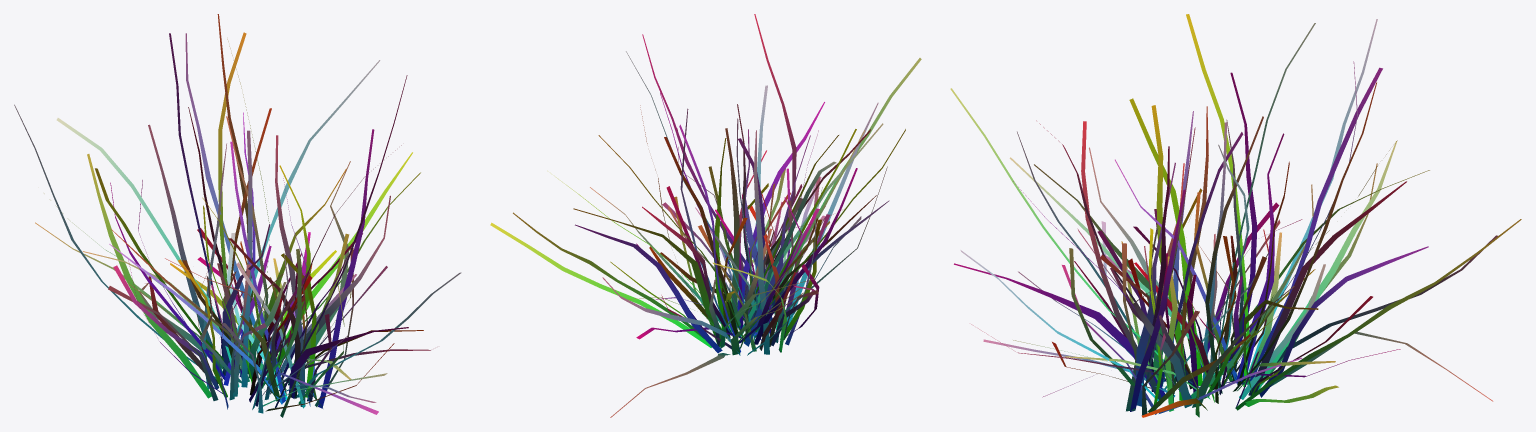
File: Wild_Grass_vlkhcbxia_High_vlkhcbxia_VarD_LOD1.fbx
3 renders of one model, left to right at view 1: azimuth 30°, elevation 25°; view 2: azimuth 150°, elevation 25°; view 3: azimuth 270°, elevation 25°, orthographic. The views are drawn at different scales.
Parts seen in each view (by area): view 1: _b488_VarD_LOD2; view 2: _b488_VarD_LOD2; view 3: _b488_VarD_LOD2.
Part boxes in pixels (x1=…): _b488_VarD_LOD2: x1=14, y1=14, x2=461, y2=417; _b488_VarD_LOD2: x1=490, y1=14, x2=921, y2=417; _b488_VarD_LOD2: x1=950, y1=14, x2=1521, y2=417.
Bounding box in the file's own units: 35.88 × 27.21 × 41.49.
